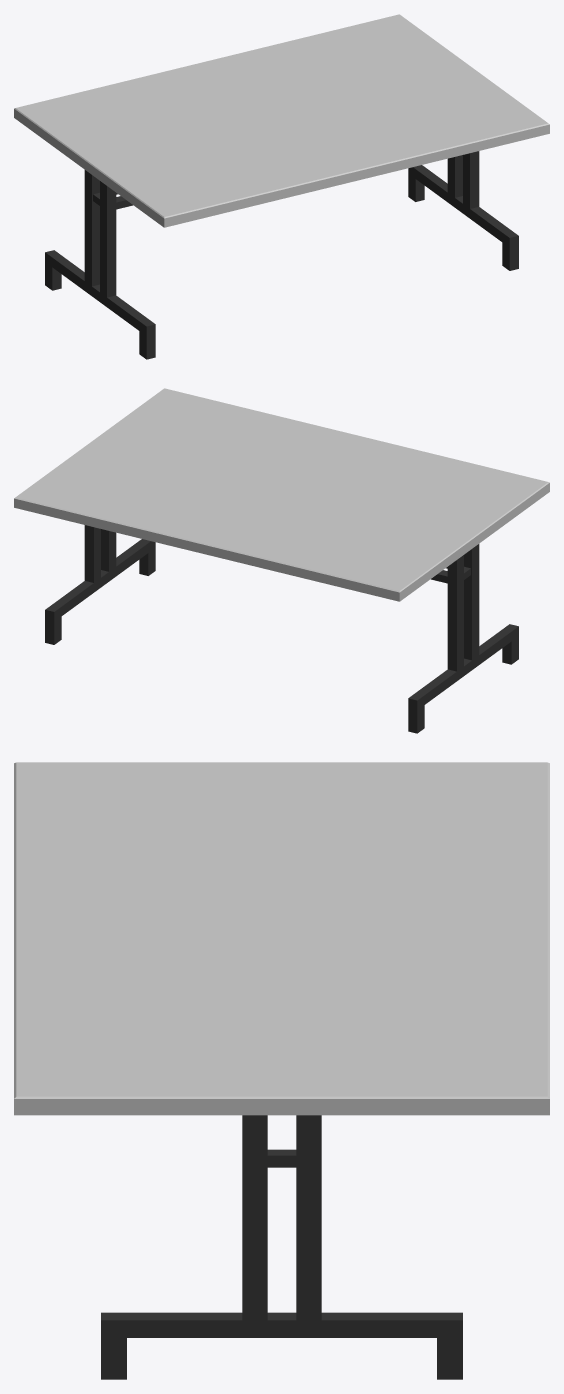
File: Int_KitchenTable01_1.fbx
The picture shows the model from 3 angles, top to bottom: view 1: azimuth 30°, elevation 25°; view 2: azimuth 150°, elevation 25°; view 3: azimuth 270°, elevation 25°; orthographic projection. The views are drawn at different scales.
Visible parts, largest first — view 1: Int_KitchenTable01_1; view 2: Int_KitchenTable01_1; view 3: Int_KitchenTable01_1.
Part boxes in pixels (x1,y1,x2,y2): Int_KitchenTable01_1: [14, 14, 549, 359]; Int_KitchenTable01_1: [14, 388, 549, 733]; Int_KitchenTable01_1: [14, 762, 549, 1379].
Size of what is drawn, in the model's own units: 200 by 135 by 80.
